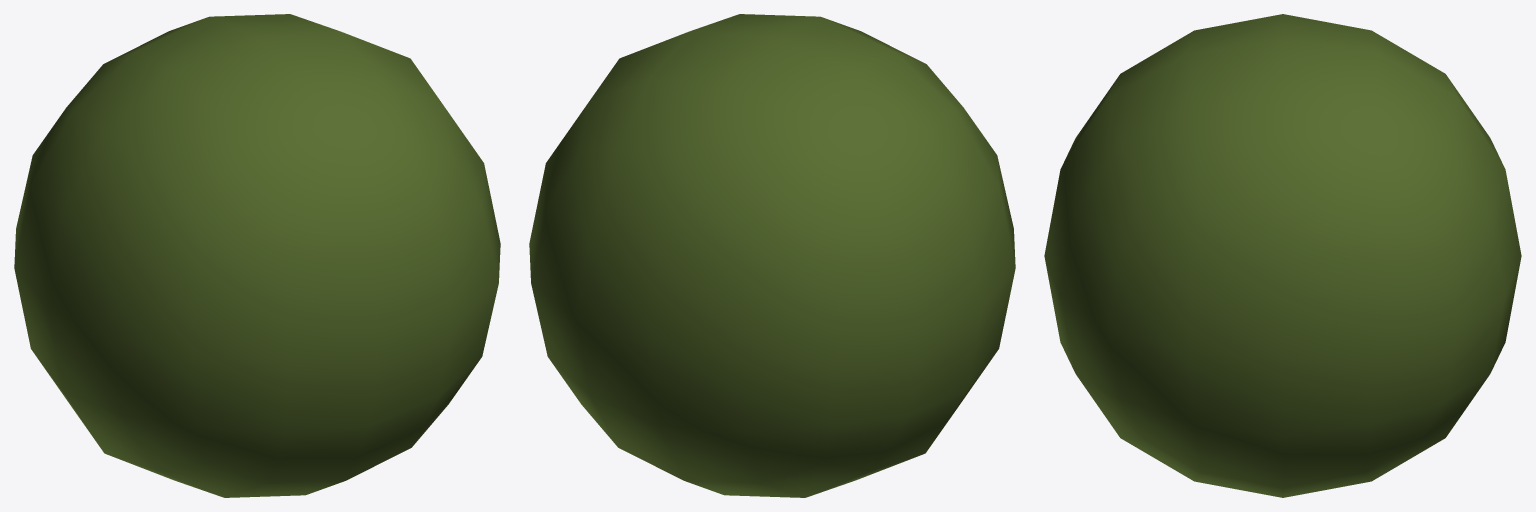
The model's file is hamsterball.fbx.
3 renders of one model, left to right at view 1: azimuth 30°, elevation 25°; view 2: azimuth 150°, elevation 25°; view 3: azimuth 270°, elevation 25°, orthographic.
Parts seen in each view (by area): view 1: Hamsterball; view 2: Hamsterball; view 3: Hamsterball.
Boxes of the visible parts, x1,y1,x2,y2 form: Hamsterball: (14, 14, 500, 497); Hamsterball: (529, 14, 1015, 497); Hamsterball: (1044, 14, 1521, 497).
Bounding box in the file's own units: 0.0137 × 0.0137 × 0.0137.
